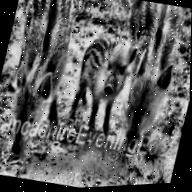boar: (90, 0, 192, 159), (0, 0, 92, 168), (57, 22, 142, 153)
